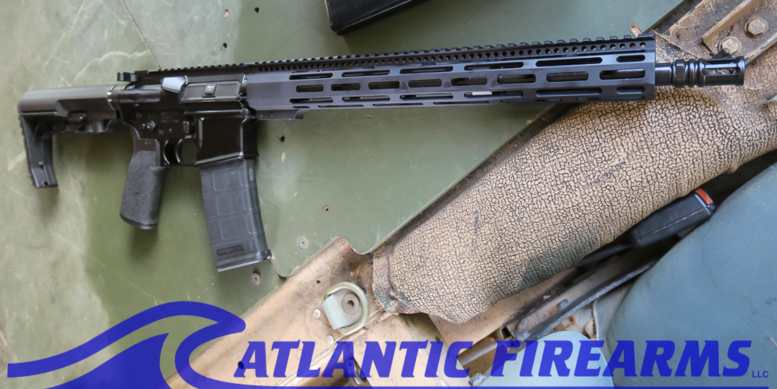Gun: (105, 66, 518, 214)
